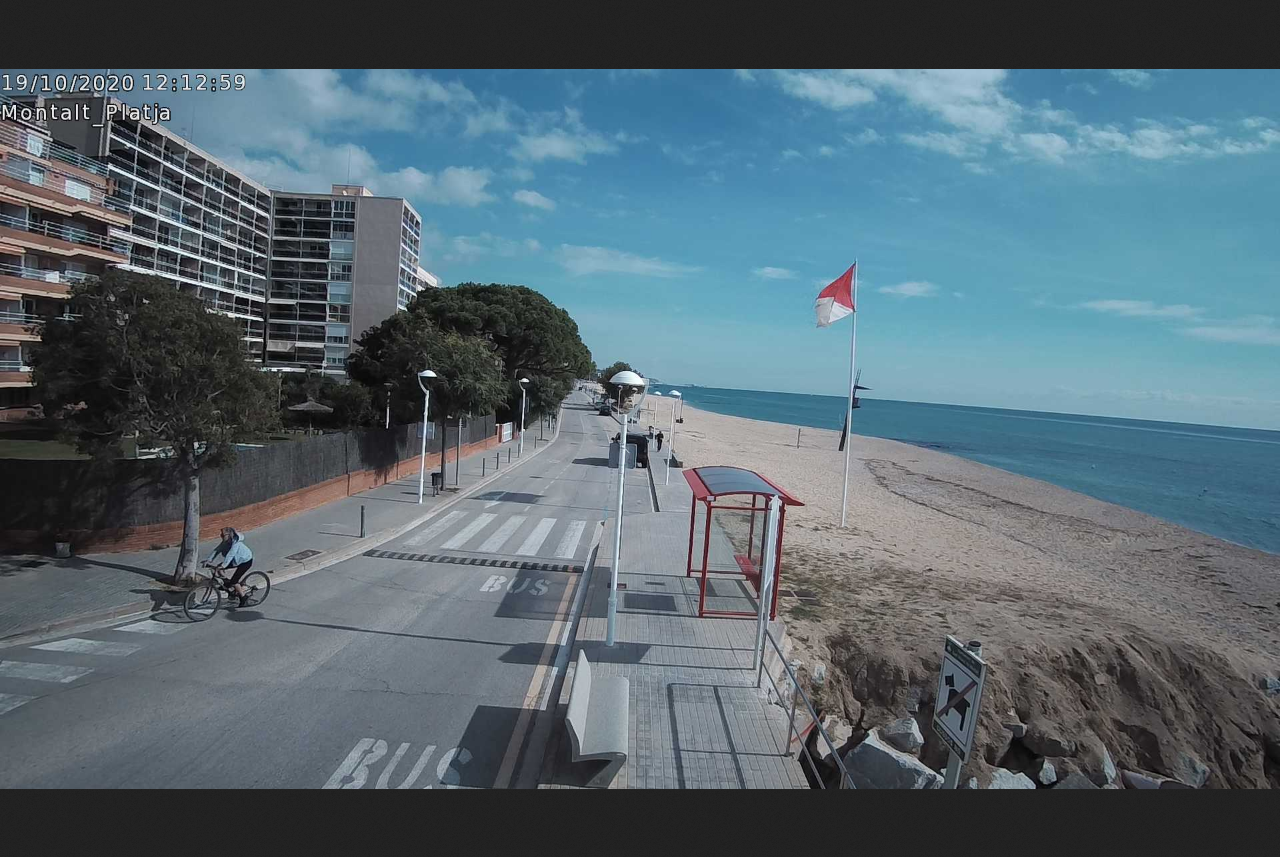maybe: (806, 255, 863, 337)
